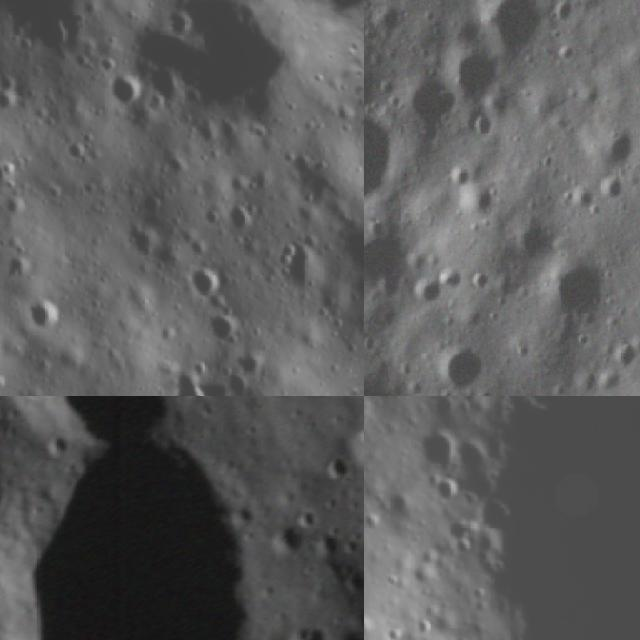crater: (0, 436, 270, 640), (91, 0, 345, 197), (0, 0, 161, 106), (1, 396, 207, 443), (252, 220, 342, 310), (2, 276, 81, 355), (315, 198, 364, 312), (539, 254, 613, 325), (172, 246, 240, 313), (474, 0, 552, 58), (364, 103, 406, 209), (140, 351, 234, 396), (91, 59, 156, 123), (115, 209, 178, 273), (192, 295, 254, 358), (402, 71, 459, 138), (433, 332, 492, 396), (444, 44, 503, 106), (147, 0, 207, 54), (222, 339, 278, 395), (405, 427, 465, 478), (502, 212, 559, 263), (588, 124, 639, 170), (477, 488, 519, 540), (455, 185, 500, 224), (310, 522, 348, 563), (561, 182, 598, 224), (0, 133, 21, 199), (345, 406, 364, 478), (409, 274, 446, 310), (270, 518, 308, 553), (588, 362, 626, 396), (316, 448, 357, 478), (608, 332, 640, 369), (283, 617, 334, 640), (289, 498, 324, 530), (596, 171, 628, 204), (432, 479, 463, 512), (442, 396, 502, 409), (448, 164, 474, 190), (352, 160, 364, 216), (364, 606, 383, 640)
